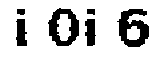0: (47, 6, 81, 49)
6: (116, 6, 152, 51)
i: (84, 3, 104, 52), (13, 3, 31, 51)
